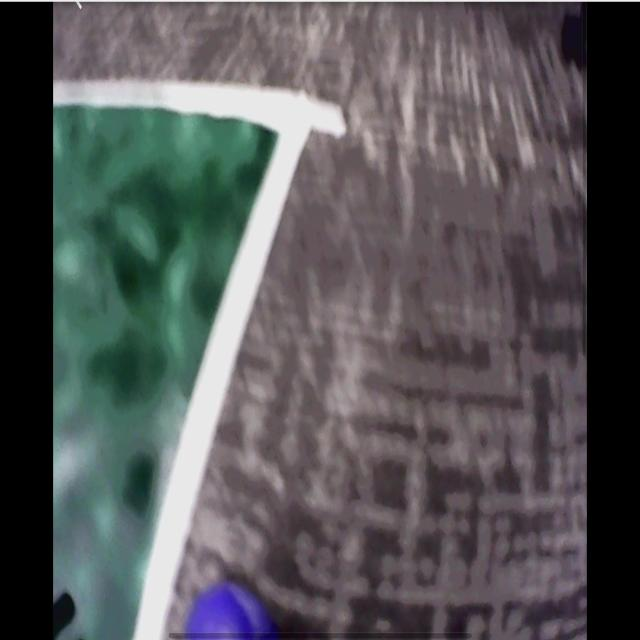ball: (183, 585, 273, 640)
